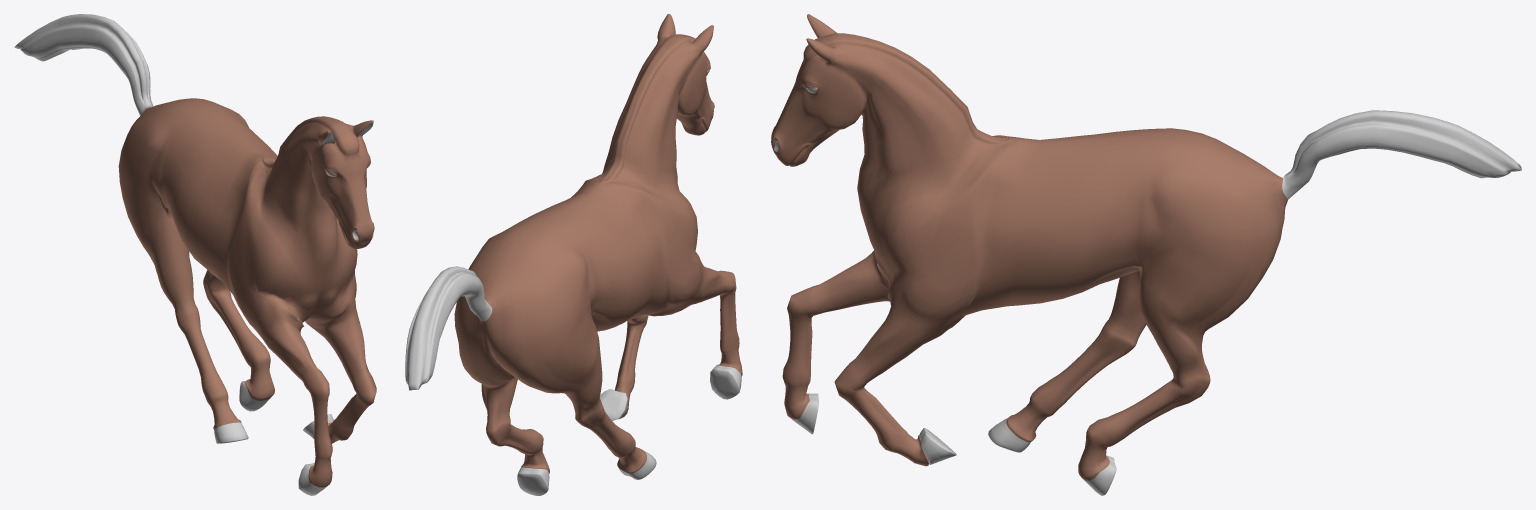
Rendered from horse_obj_18.obj.
The picture shows the model from 3 angles, left to right: view 1: azimuth 30°, elevation 25°; view 2: azimuth 150°, elevation 25°; view 3: azimuth 270°, elevation 25°; orthographic projection. The views are drawn at different scales.
Visible parts, largest first — view 1: Figure_1; view 2: Figure_1; view 3: Figure_1.
Part boxes in pixels (bbox=[...]): Figure_1: bbox=[14, 14, 376, 495]; Figure_1: bbox=[405, 14, 742, 495]; Figure_1: bbox=[771, 14, 1521, 495].
Size of the model in its own units: 0.2421 by 0.7827 by 1.18.
